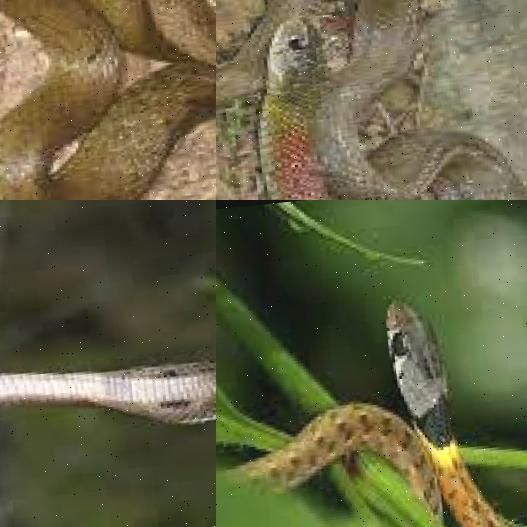snake: (216, 214, 527, 527), (216, 0, 527, 200), (0, 0, 216, 200), (0, 296, 216, 475)
